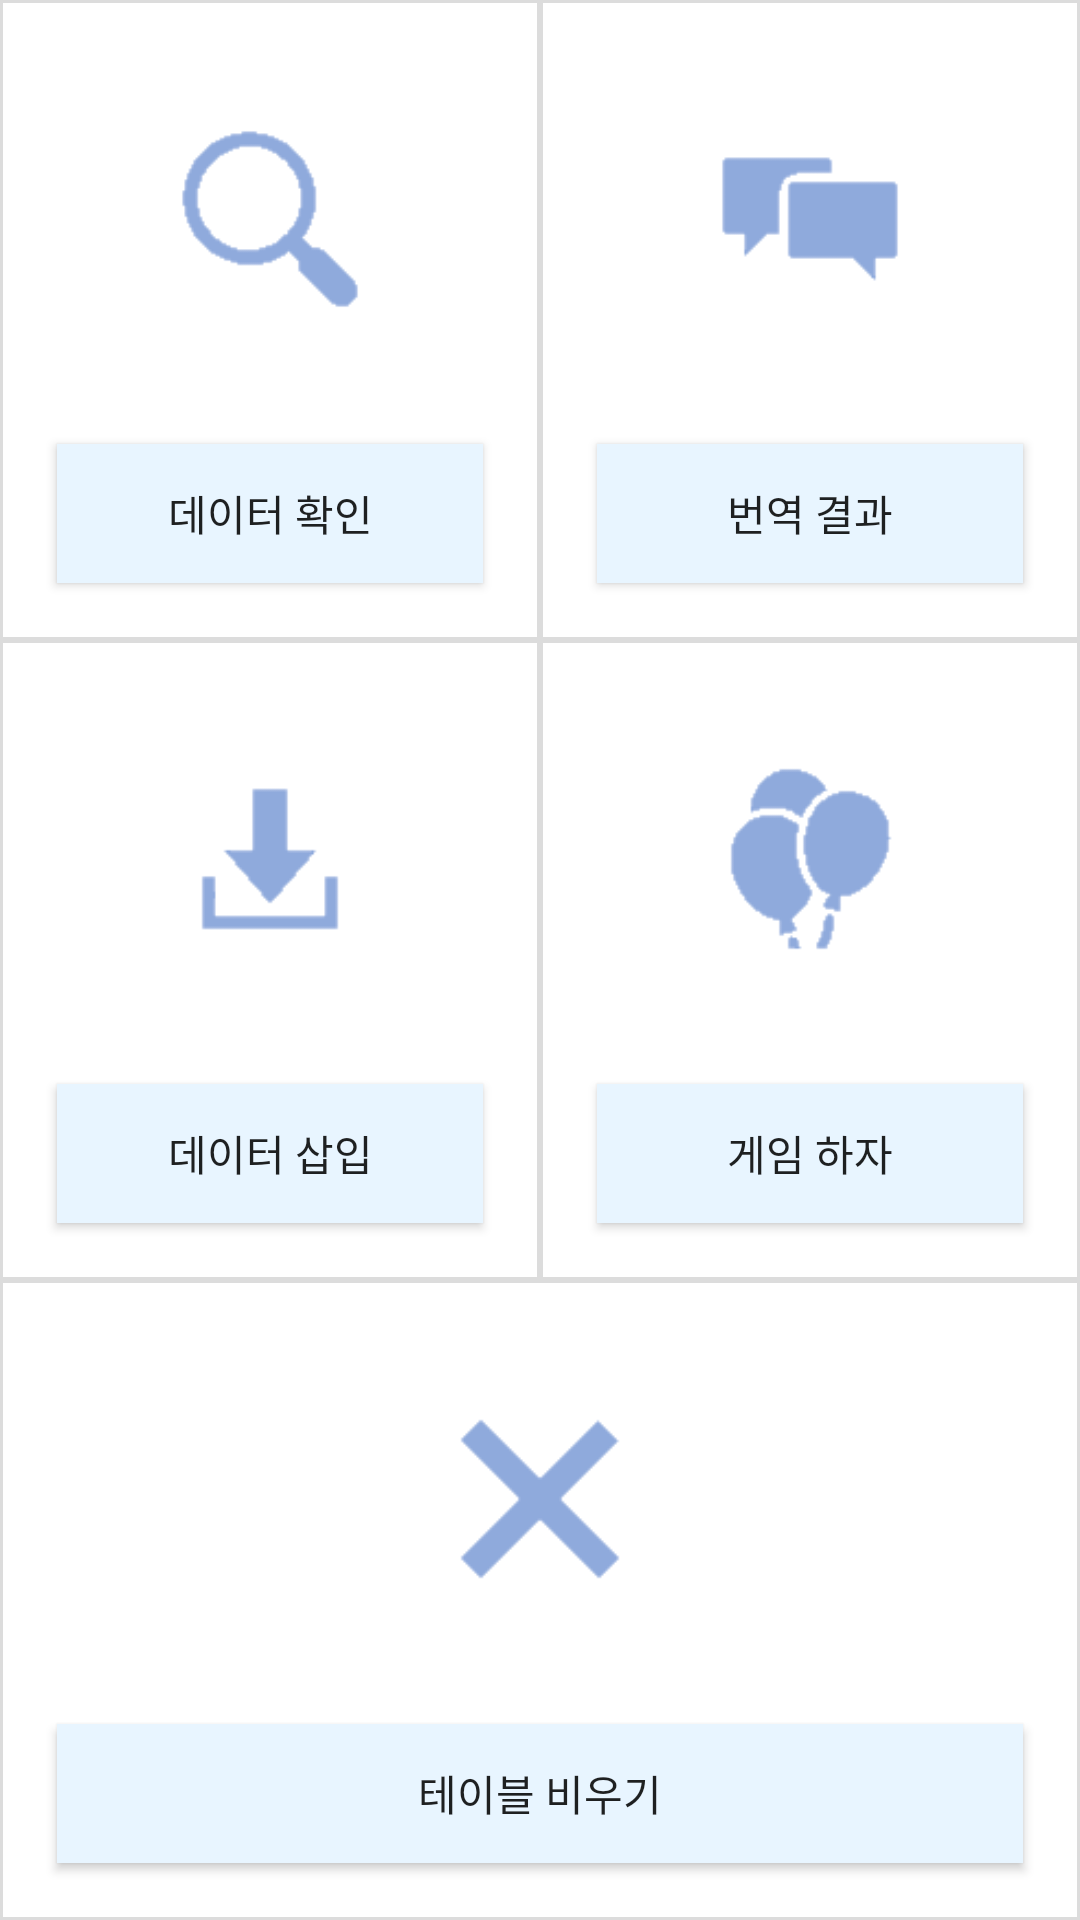

Named icons in this screenshot (1080 x 1920) and their centers, (x=x, y=y):
inputdata: (x=270, y=859)
